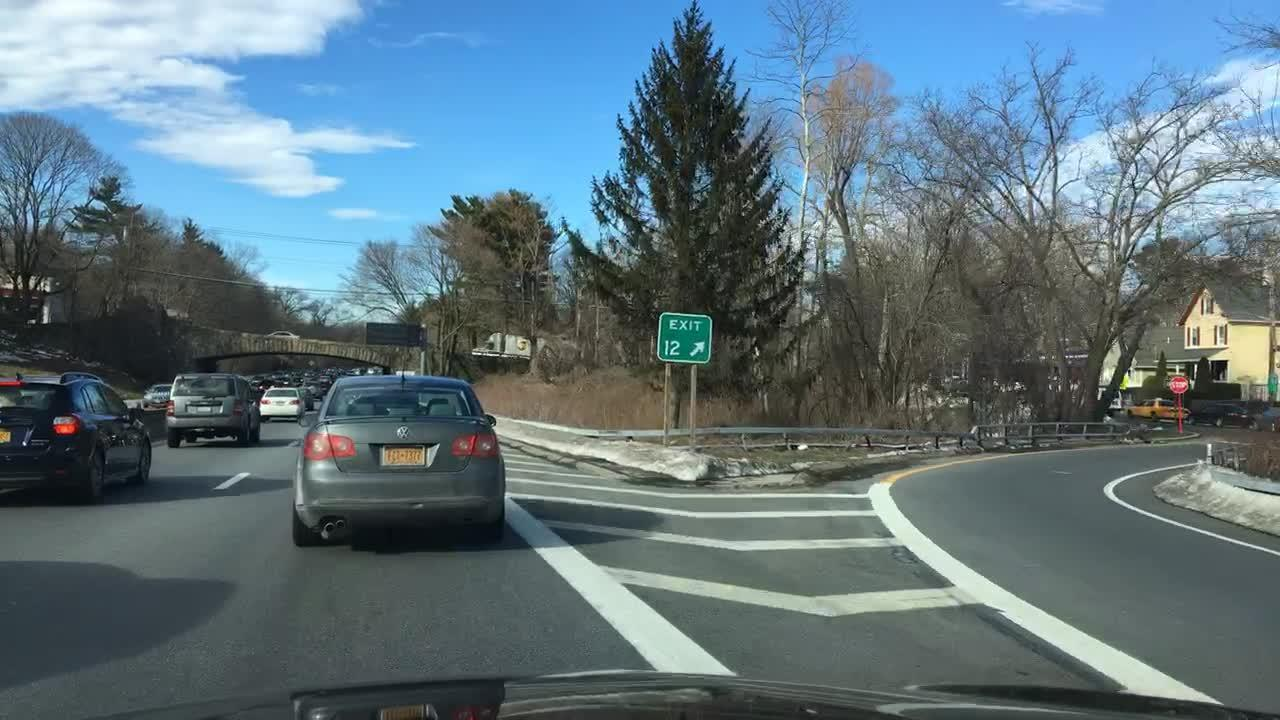Volkswagen: (393, 423, 417, 443)
